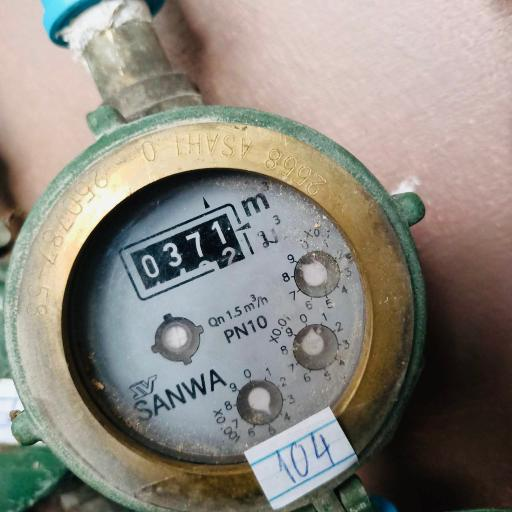0: (130, 244, 170, 291)
1: (200, 213, 246, 270)
3: (152, 233, 194, 282)
7: (177, 224, 216, 271)
border_water_meter_number: (117, 202, 255, 303)
